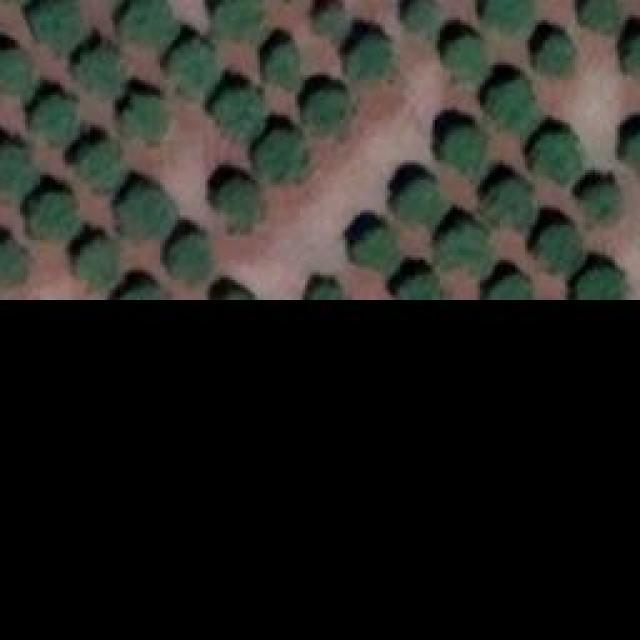Tree: (435, 225, 493, 275), (117, 188, 175, 238), (120, 0, 175, 48), (32, 3, 80, 58), (217, 180, 265, 233), (258, 133, 308, 183), (30, 98, 78, 148), (77, 50, 125, 98), (535, 133, 580, 183), (218, 90, 263, 140), (487, 183, 535, 228), (173, 42, 218, 90), (122, 95, 170, 140), (352, 230, 400, 275), (78, 140, 121, 190), (490, 80, 530, 133), (443, 128, 488, 173), (535, 228, 580, 273), (30, 195, 75, 240), (213, 0, 263, 40), (398, 180, 441, 225), (350, 35, 393, 80), (307, 90, 345, 138), (445, 38, 483, 83), (170, 235, 208, 280), (0, 49, 32, 102), (0, 147, 35, 195), (77, 243, 115, 286), (485, 0, 535, 32), (538, 38, 573, 78), (579, 0, 622, 32), (268, 45, 298, 90), (577, 270, 625, 298), (405, 0, 438, 40), (585, 185, 618, 223), (318, 5, 351, 38), (400, 275, 445, 298), (488, 278, 533, 298), (0, 245, 22, 285), (625, 35, 640, 78)
